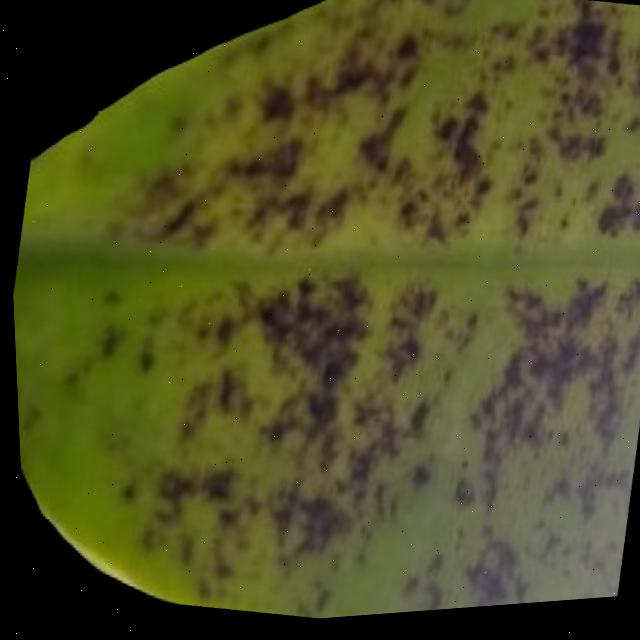mite: (89, 325, 120, 365)
spots: (10, 0, 640, 623)
